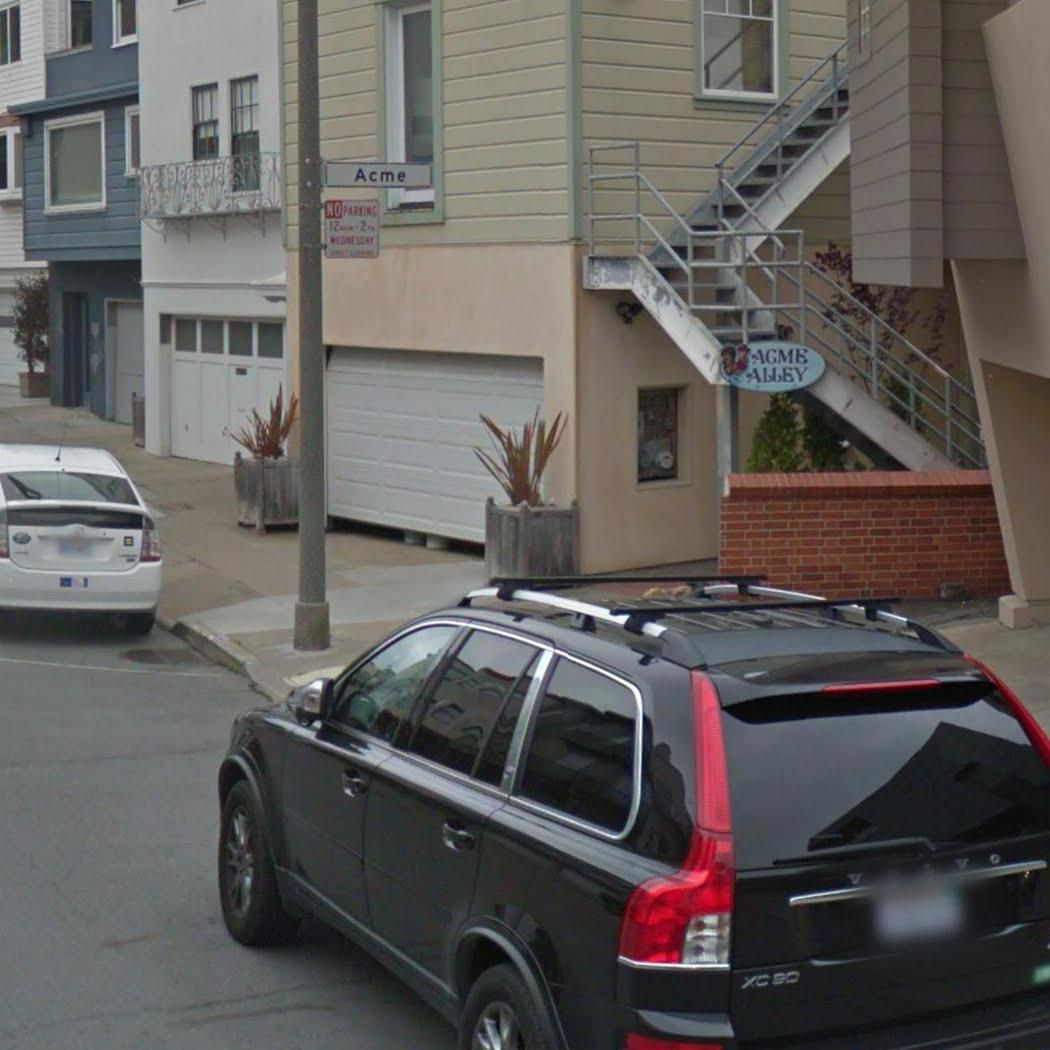No Parking: (321, 194, 386, 262)
